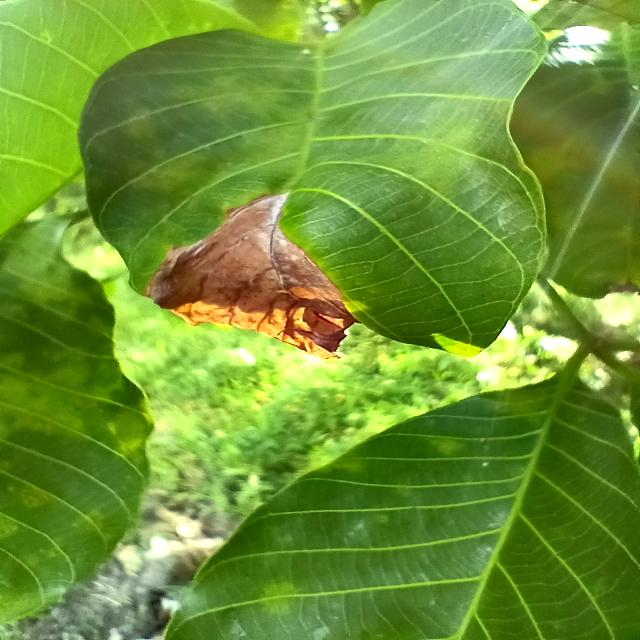Leaf-Blight: (142, 192, 360, 358)
